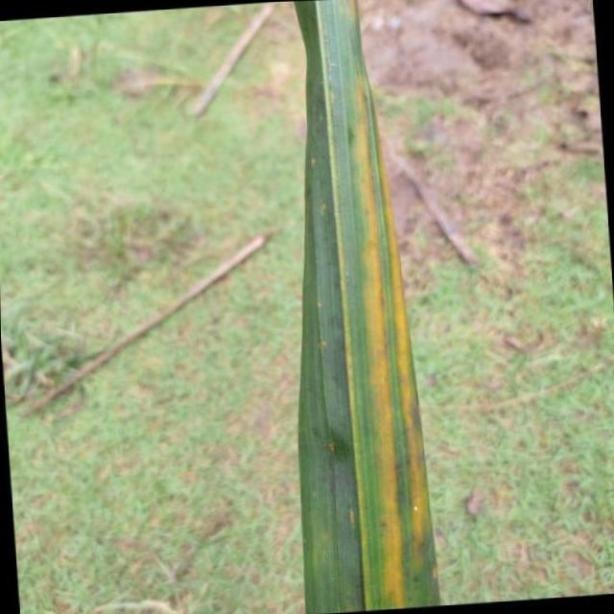Megnesium: (294, 0, 445, 614)
